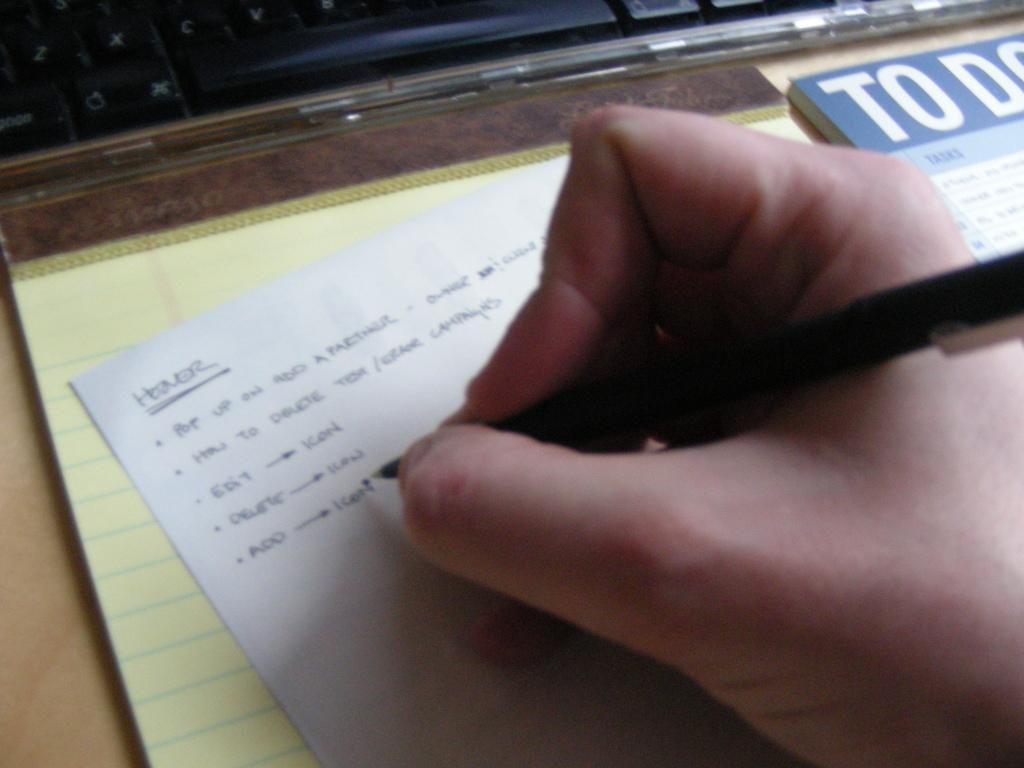pen: (364, 238, 1022, 475)
